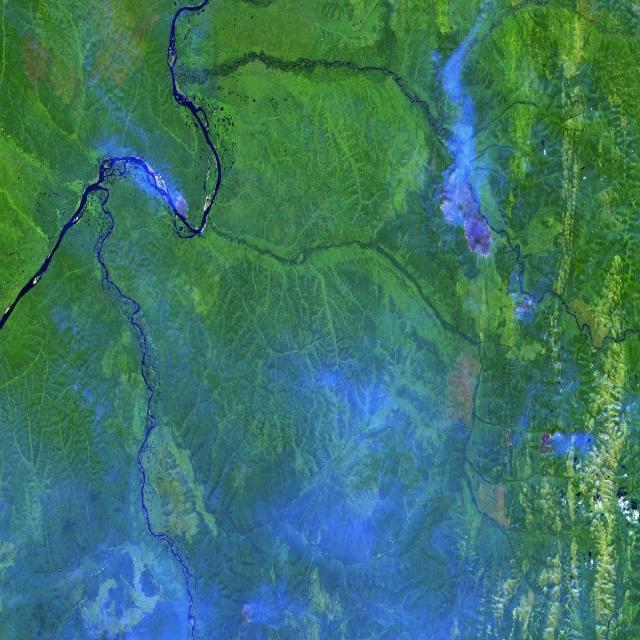fire: (436, 165, 500, 267), (535, 419, 559, 461)
